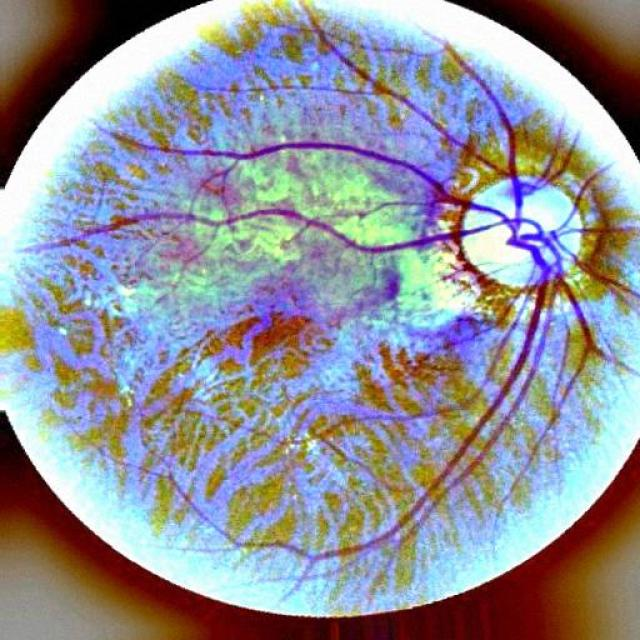Macula: (232, 288, 335, 357)
Nerves: (244, 210, 552, 558), (132, 136, 498, 215), (442, 44, 526, 210)
Optic Disk: (434, 146, 623, 314)
